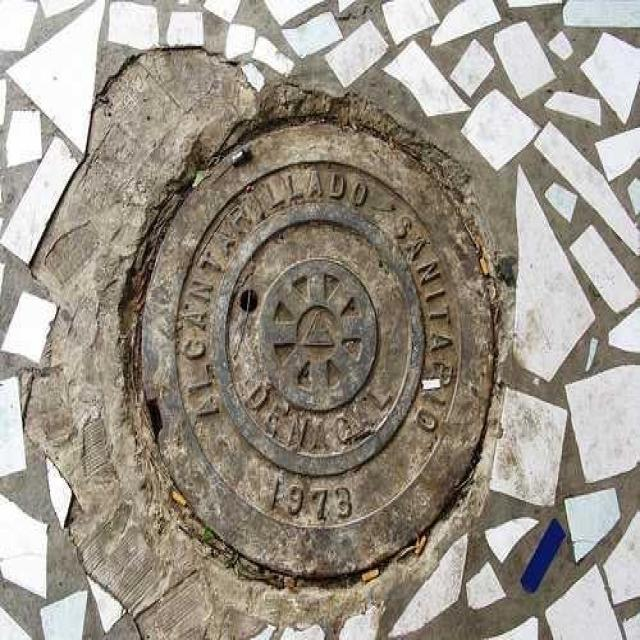manhole: (129, 85, 511, 587)
